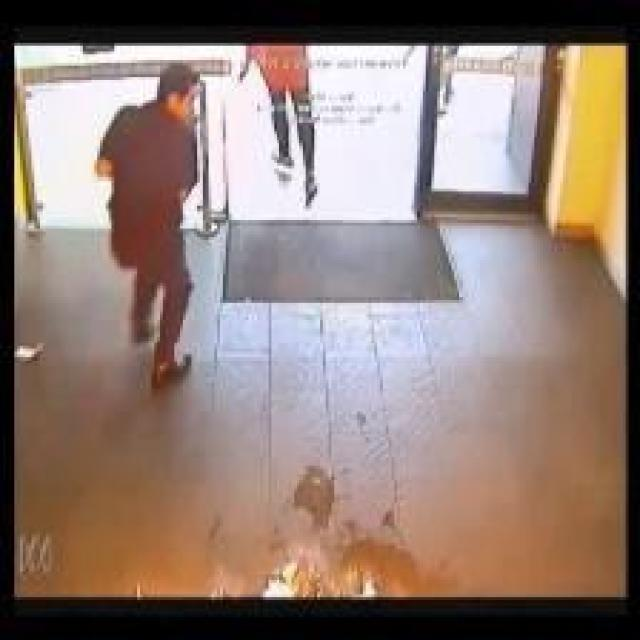smoke: (208, 546, 398, 600)
